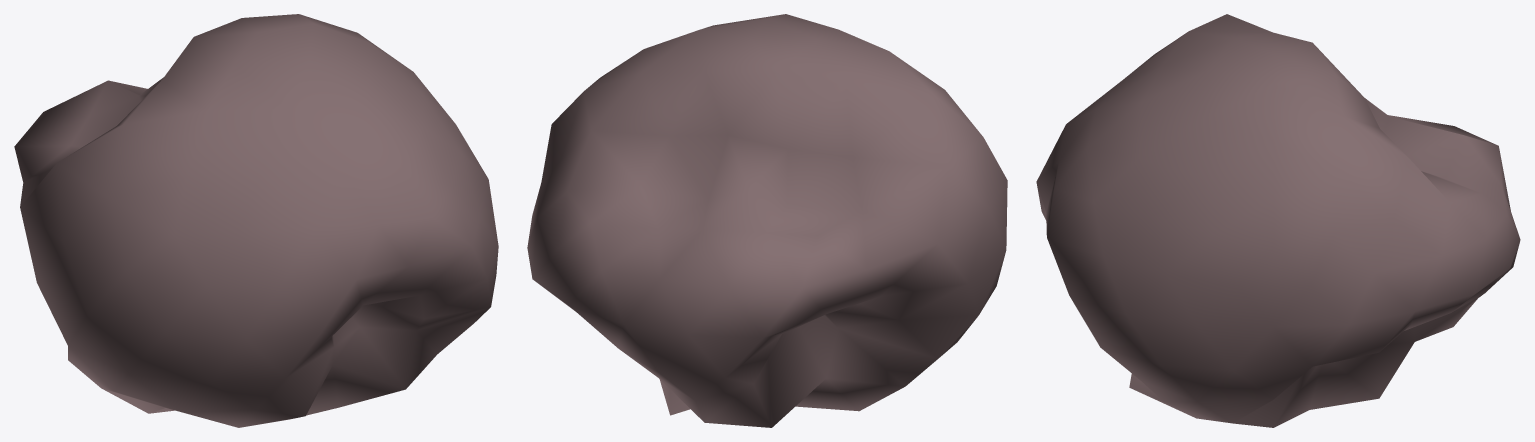
The model's file is asteroid_sml_05.glb.
3 views of the same model, side by side, from view 1: azimuth 30°, elevation 25°; view 2: azimuth 150°, elevation 25°; view 3: azimuth 270°, elevation 25° (orthographic). The views are drawn at different scales.
Visible parts, largest first — view 1: asteroid_sml_05; view 2: asteroid_sml_05; view 3: asteroid_sml_05.
Boxes of the visible parts, box(x1,y1,x2,y2) form: asteroid_sml_05: box(14, 14, 498, 427); asteroid_sml_05: box(527, 14, 1007, 427); asteroid_sml_05: box(1036, 14, 1520, 427).
Size of the model in its own units: 1.73 by 1.46 by 1.87.
